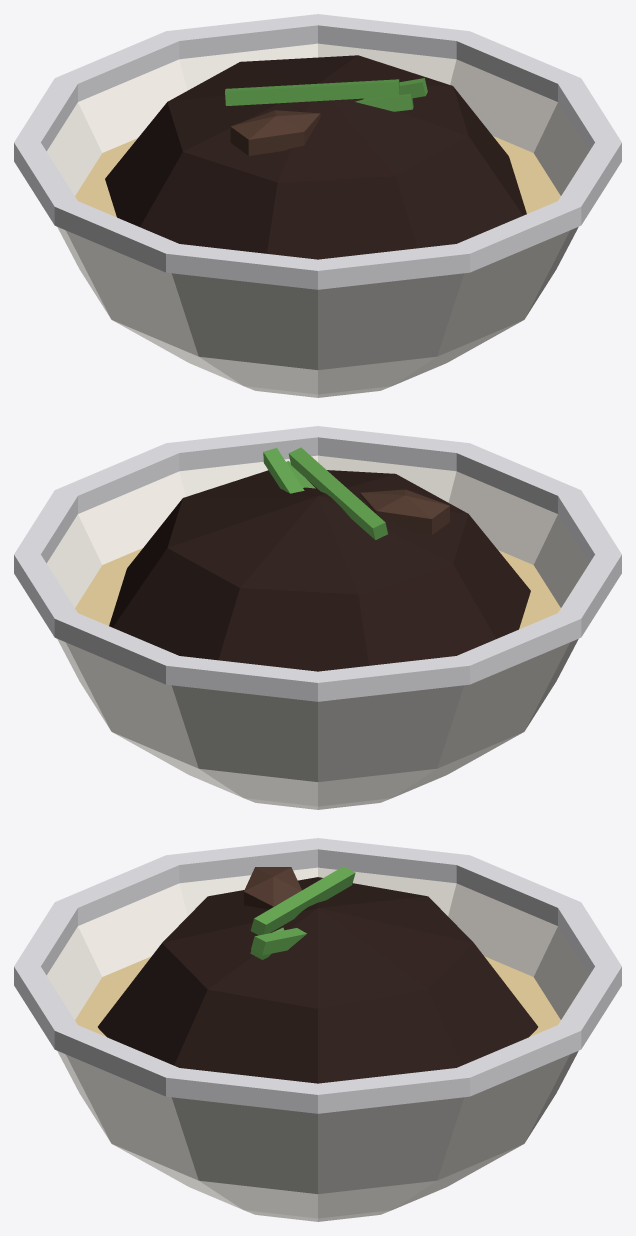
File: Food_Jajangmyeon.obj
3 views of the same model, one above another, from view 1: azimuth 30°, elevation 25°; view 2: azimuth 150°, elevation 25°; view 3: azimuth 270°, elevation 25° (orthographic).
Size of the model in its own units: 2.04 by 1.02 by 2.04.
